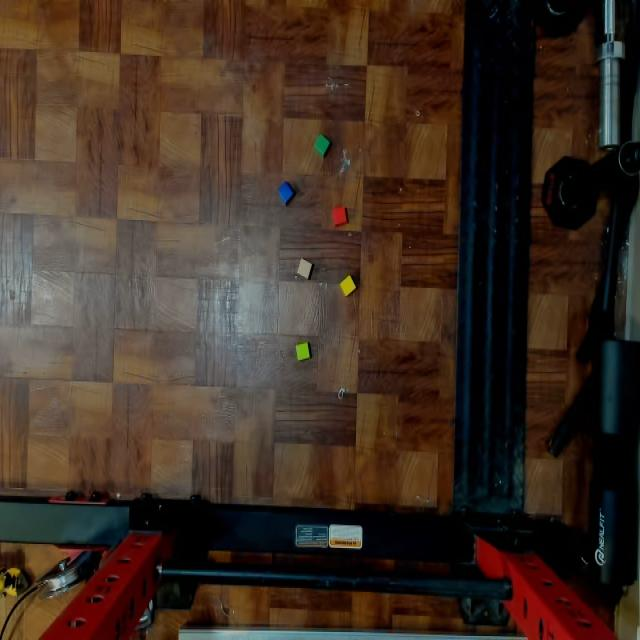block: (278, 181, 294, 205), (296, 260, 313, 279), (315, 133, 329, 156), (339, 276, 355, 295), (333, 207, 348, 225), (297, 343, 311, 360)
